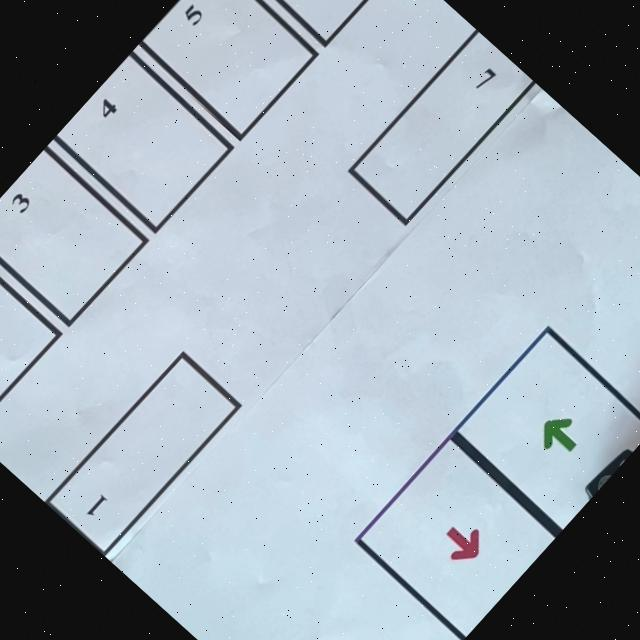car: (585, 449, 632, 500)
